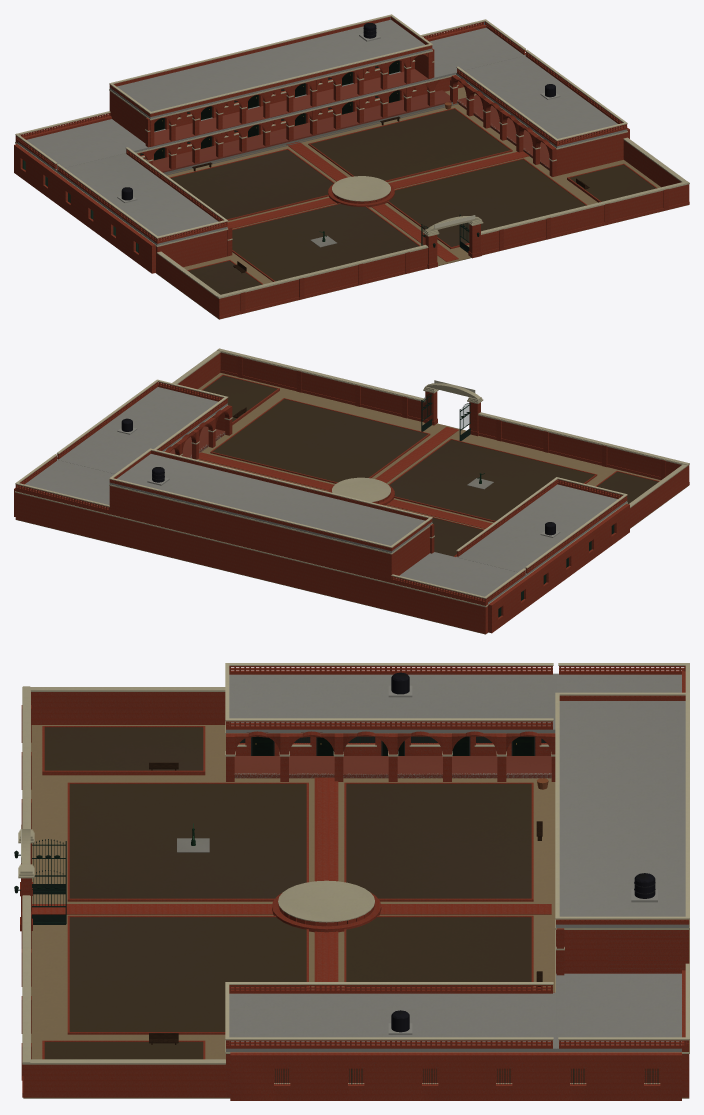
The model's file is gurukul.glb.
The picture shows the model from 3 angles, top to bottom: view 1: azimuth 30°, elevation 25°; view 2: azimuth 150°, elevation 25°; view 3: azimuth 270°, elevation 25°; orthographic projection. The views are drawn at different scales.
Parts seen in each view (by area): view 1: hb_main, hb_brick, hb_props; view 2: hb_main, hb_brick, hb_metal; view 3: hb_main, hb_brick, hb_props, hb_metal.
Part boxes in pixels (x1,y1,x2,y2): hb_main: [15, 14, 689, 319]; hb_brick: [14, 16, 689, 319]; hb_props: [154, 60, 589, 273]; hb_main: [15, 348, 689, 634]; hb_brick: [14, 352, 689, 633]; hb_metal: [421, 393, 484, 599]; hb_main: [18, 663, 689, 1098]; hb_brick: [20, 666, 689, 1100]; hb_props: [149, 736, 542, 1044]; hb_metal: [14, 823, 686, 1041].
Size of the model in its own units: 61 by 9.2 by 45.67.
4 materials, 4 textured.
